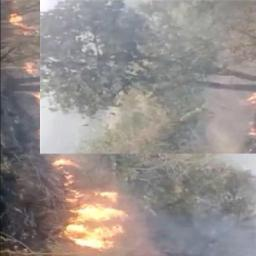Low smoke: (42, 1, 140, 149)
Small fire: (53, 156, 127, 253), (8, 9, 39, 44), (23, 57, 38, 76)
